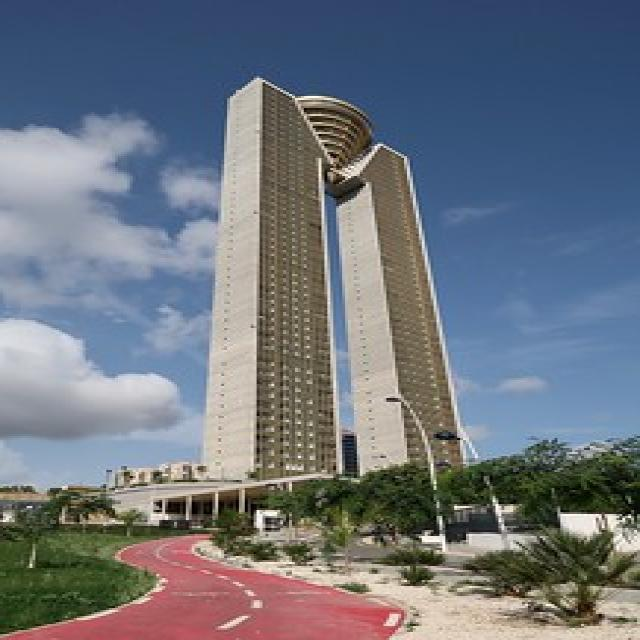building: (201, 73, 498, 547)
